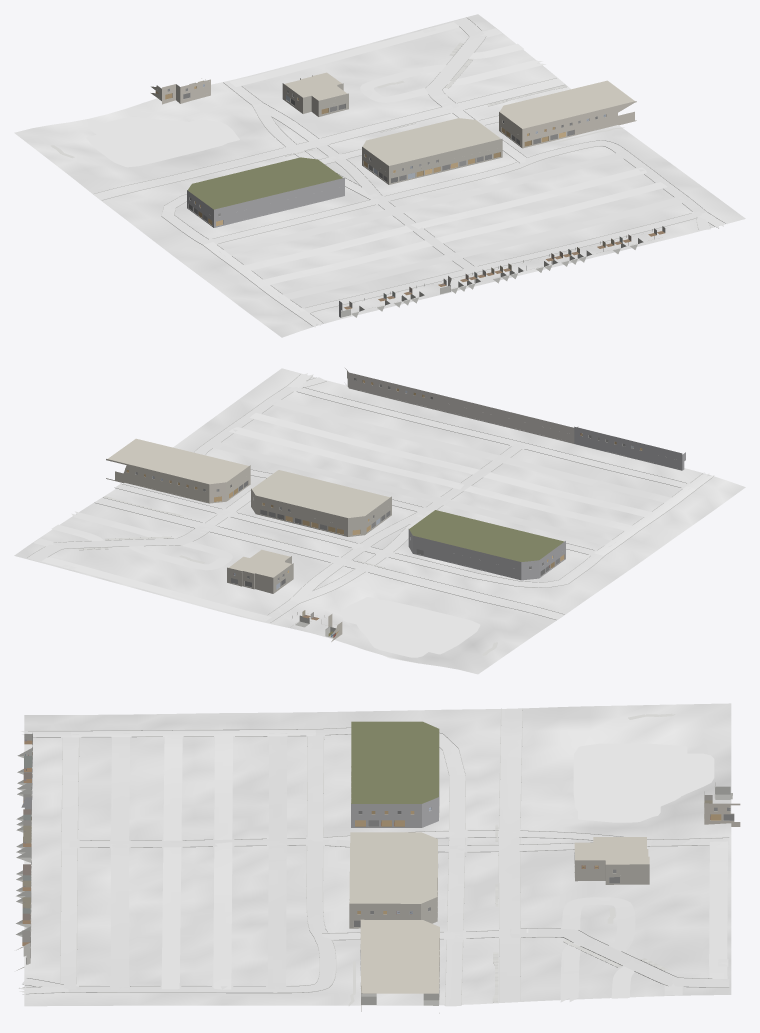
3 renders of one model, top to bottom at view 1: azimuth 30°, elevation 25°; view 2: azimuth 150°, elevation 25°; view 3: azimuth 270°, elevation 25°, orthographic. The views are drawn at different scales.
Parts seen in each view (by area): view 1: ground, concrete, roof_flat, wall_com, asphalt, water, curb, room, glass, glass_lit, walk, detail; view 2: ground, concrete, wall_com, roof_flat, water, asphalt, curb, glass, glass_lit, walk; view 3: ground, concrete, roof_flat, water, asphalt, wall_com, curb, room, walk.
Part boxes in pixels (x1,y1,x2,y2): ground: (14, 14, 745, 337); concrete: (161, 22, 723, 327); roof_flat: (187, 72, 634, 209); wall_com: (151, 75, 636, 317); asphalt: (94, 18, 564, 200); water: (86, 117, 239, 167); curb: (94, 17, 726, 326); room: (171, 80, 665, 317); glass: (167, 88, 597, 221); glass_lit: (155, 84, 605, 226); walk: (50, 42, 624, 158); detail: (166, 78, 662, 316); ground: (14, 368, 745, 674); concrete: (33, 373, 714, 622); wall_com: (106, 368, 685, 641); roof_flat: (108, 438, 564, 577); water: (340, 597, 480, 663); asphalt: (27, 497, 564, 619); curb: (27, 374, 713, 622); glass: (135, 378, 625, 587); glass_lit: (126, 380, 642, 634); walk: (78, 496, 497, 655); ground: (24, 703, 731, 1006); concrete: (18, 728, 729, 1006); roof_flat: (349, 721, 649, 993); water: (573, 743, 714, 822); asphalt: (499, 708, 729, 1002); wall_com: (16, 733, 740, 1013); curb: (19, 708, 729, 1005); room: (16, 734, 732, 1005); walk: (348, 713, 675, 1005).
Bounding box in the file's own units: 260 × 13.25 × 259.
